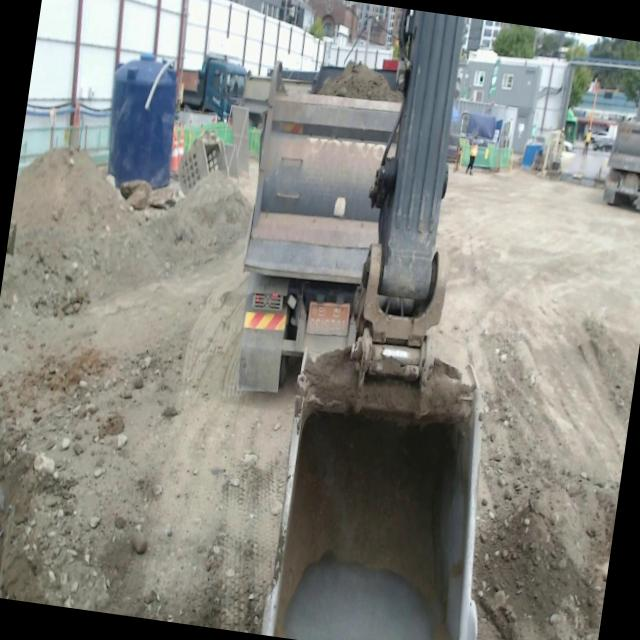red-sand: (480, 500, 617, 640)
white-sand: (0, 152, 295, 635), (434, 170, 640, 543)
